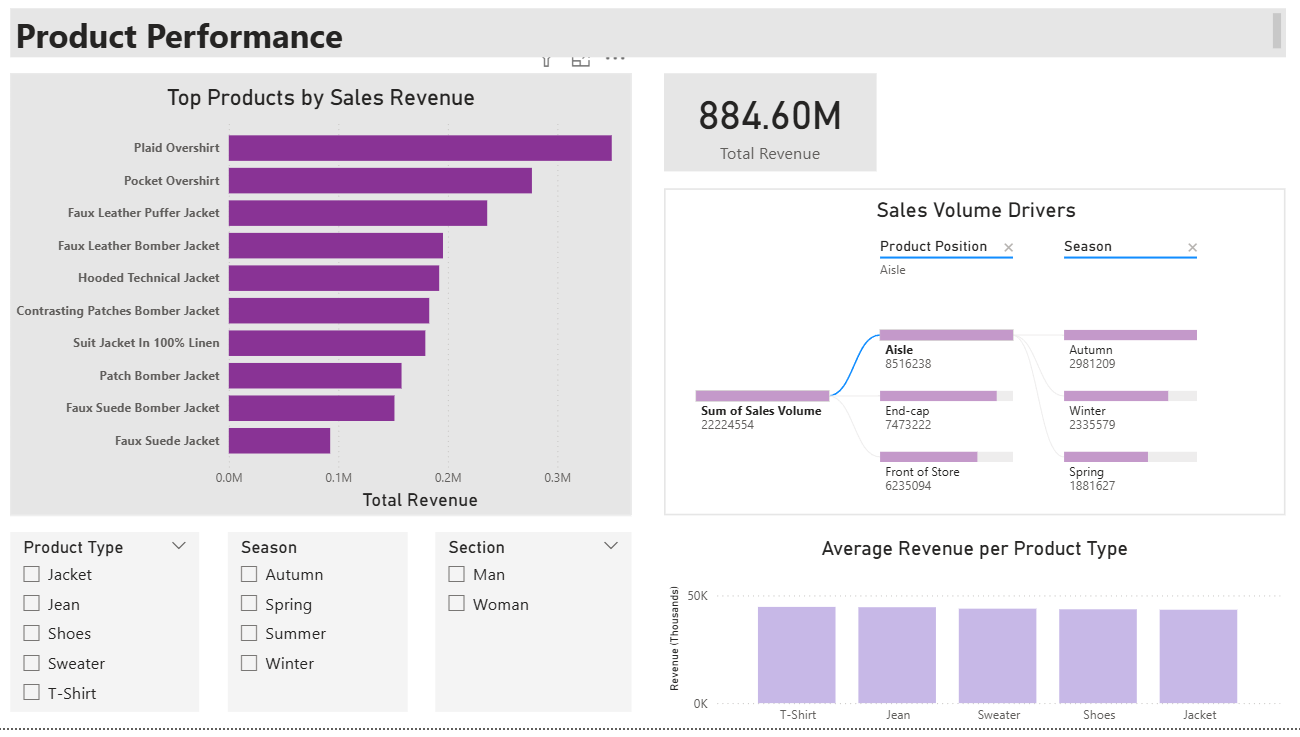

The page's visual inventory and layout, read from the dashboard file:
{"tool":"powerbi","page":{"name":"Product Performance","canvas":[1280,720],"ordinal":0},"visuals":[{"type":"barChart","title":"Top Products by Sales Revenue","fields":{"Category":["Fact_Sales.Product Name"],"Y":["Fact_Sales.Total Revenue"]},"box":[16,80,608,432],"z":0},{"type":"decompositionTreeVisual","title":"Sales Volume Drivers","fields":{"Analyze":["Sum(Fact_Sales.Sales Volume)"],"ExplainBy":["Fact_Sales.Product Position","Fact_Sales.Season"]},"box":[656,192,608,320],"z":1000},{"type":"columnChart","title":"Average Revenue per Product Type","fields":{"Category":["Fact_Sales.Product Type"],"Y":["Fact_Sales.Average Revenue per Category"]},"box":[656,528,608,192],"z":2000},{"type":"slicer","fields":{"Values":["Fact_Sales.Product Type"]},"box":[16,528,185,176],"z":3000,"group":"g1"},{"type":"slicer","fields":{"Values":["Fact_Sales.Section"]},"box":[432,528,192,176],"z":4000,"group":"g1"},{"type":"card","fields":{"Values":["Fact_Sales.Total Revenue"]},"box":[656,80,208,96],"z":4000},{"type":"slicer","fields":{"Values":["Fact_Sales.Season"]},"box":[228.5,528,176,176],"z":5000,"group":"g1"},{"type":"textbox","box":[16,16,1248,48],"z":5000},{"type":"group","id":"g1","title":"Group 1","box":[16,528,608,176],"z":6000}]}

Visuals, with their boxes in screenshot pixels (x1, y1, x2, y2), scaled from the page's 1280x720 canvas onto the 1300x737 screenshot:
"Top Products by Sales Revenue" barChart: bbox=[16, 82, 634, 524]
"Sales Volume Drivers" decompositionTreeVisual: bbox=[666, 197, 1284, 524]
"Average Revenue per Product Type" columnChart: bbox=[666, 540, 1284, 736]
slicer - Fact_Sales.Product Type: bbox=[16, 540, 204, 721]
slicer - Fact_Sales.Section: bbox=[439, 540, 634, 721]
card - Fact_Sales.Total Revenue: bbox=[666, 82, 878, 180]
slicer - Fact_Sales.Season: bbox=[232, 540, 411, 721]
textbox: bbox=[16, 16, 1284, 66]
"Group 1" group: bbox=[16, 540, 634, 721]
